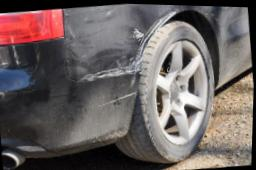Bumper: (0, 38, 136, 163)
Fender: (58, 3, 221, 82)
